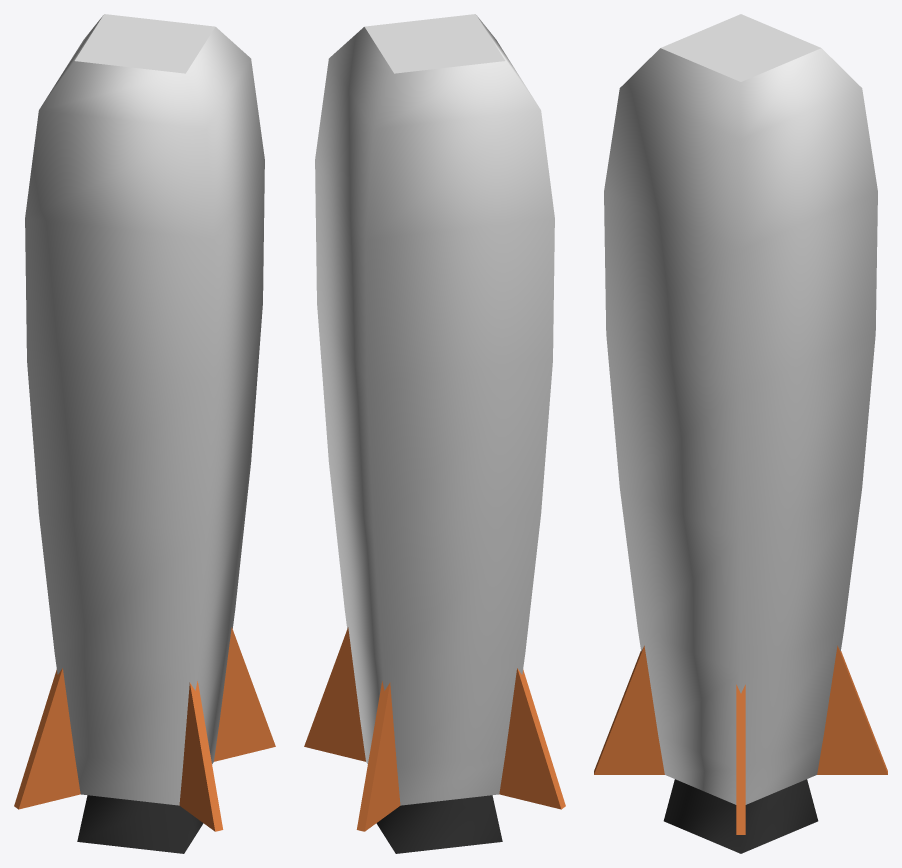
File: Missiles and bombs.glb
The picture shows the model from 3 angles, left to right: view 1: azimuth 30°, elevation 25°; view 2: azimuth 150°, elevation 25°; view 3: azimuth 270°, elevation 25°; orthographic projection.
Visible parts, largest first — view 1: Root; view 2: Root; view 3: Root.
Part boxes in pixels (<box>): Root: <box>14,14,275,853</box>; Root: <box>304,14,565,853</box>; Root: <box>594,14,887,853</box>.
Size of the model in its own units: 1.25 by 3.63 by 1.25.
